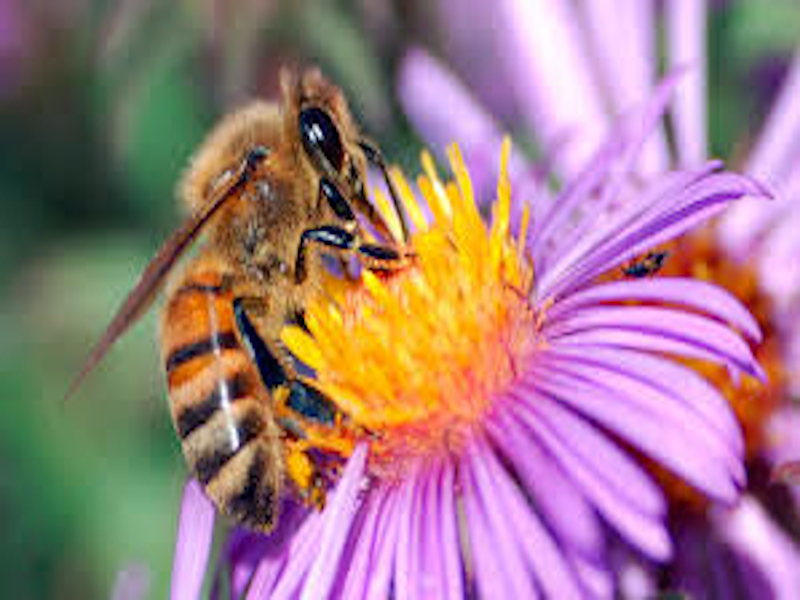abeja: (57, 29, 419, 562)
